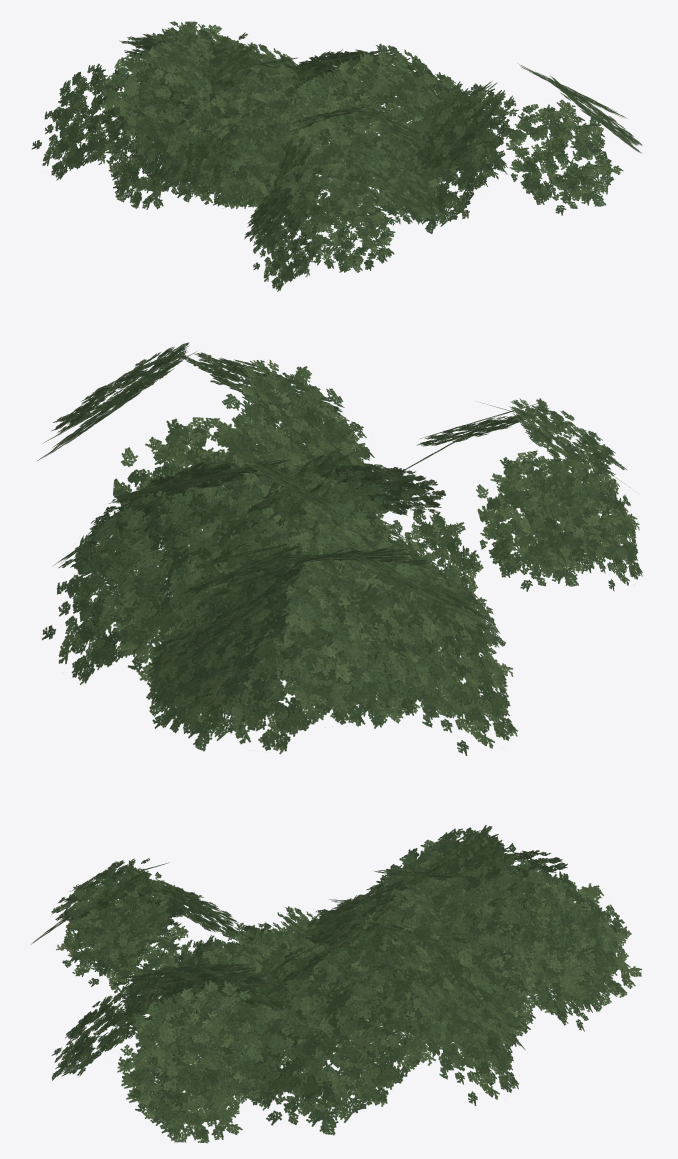
3 views of the same model, one above another, from view 1: azimuth 30°, elevation 25°; view 2: azimuth 150°, elevation 25°; view 3: azimuth 270°, elevation 25° (orthographic). The views are drawn at different scales.
Visible parts, largest first — view 1: mat_d_lod0_0; view 2: mat_d_lod0_0; view 3: mat_d_lod0_0.
Boxes of the visible parts, <box> form: mat_d_lod0_0: <box>31,21,642,291</box>; mat_d_lod0_0: <box>37,342,642,755</box>; mat_d_lod0_0: <box>31,825,641,1143</box>.
Size of what is drawn, in the model's own units: 3.8 by 1.16 by 4.05.
1 material, 1 textured.
